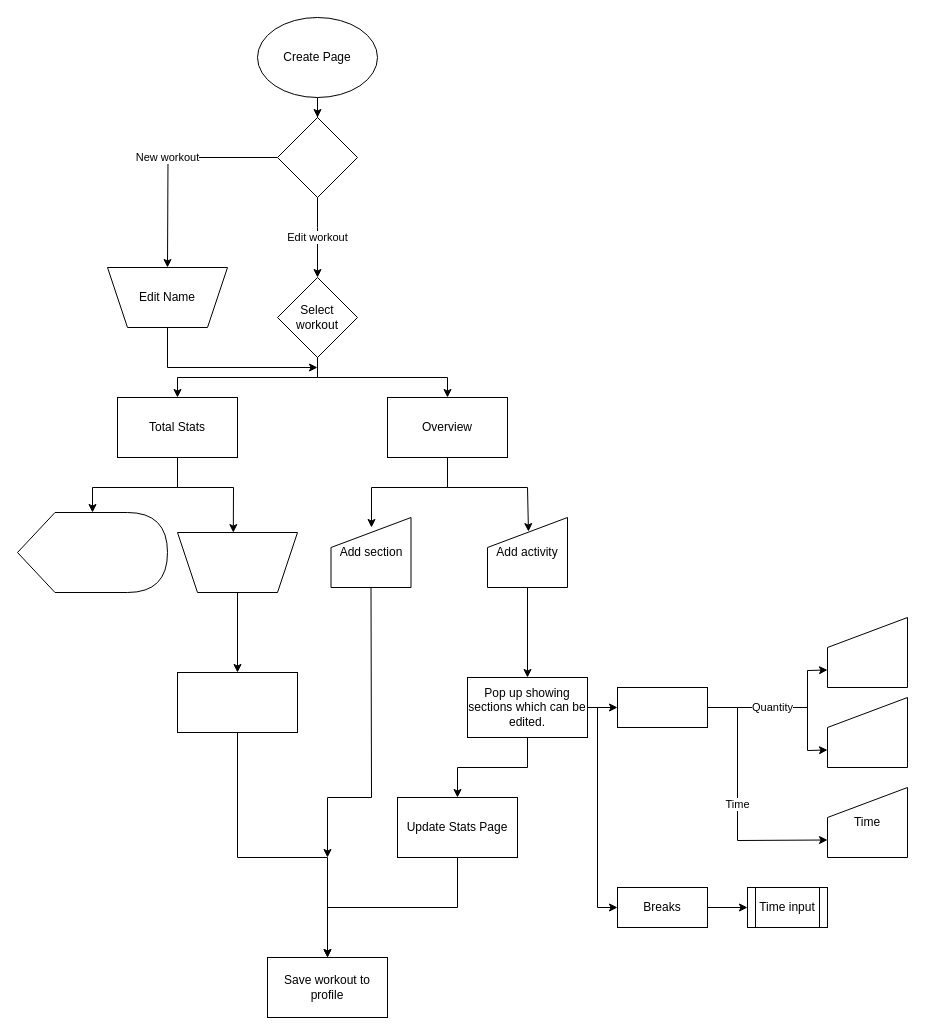
This 925x1035 diagram has some shape labels left out. Each missing label, with the box of its shape:
Days set: (176, 532, 298, 592)
Muscles tageted, Total time, No. of steps, equipment used: (16, 512, 168, 592)
New workout or Edit workout: (276, 116, 358, 198)
Number of Reps: (826, 616, 908, 688)
Reps: (616, 686, 708, 728)
Update calendar: (176, 672, 298, 732)
Weight: (826, 696, 908, 768)
